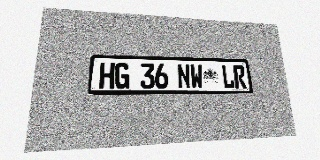3: (141, 63, 154, 89)
6: (155, 63, 168, 89)
G: (115, 63, 130, 89)
H: (99, 62, 115, 89)
L: (221, 65, 235, 88)
N: (177, 64, 191, 89)
R: (233, 65, 247, 88)
W: (190, 64, 204, 89)
